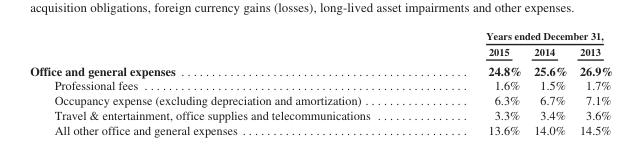table: (29, 29, 612, 136)
table column: (29, 29, 427, 136), (427, 29, 527, 136), (527, 29, 572, 136), (572, 29, 612, 136)
table column header: (29, 29, 612, 59)
table row: (29, 59, 612, 77), (29, 43, 612, 59), (29, 77, 612, 92), (29, 92, 612, 107), (29, 107, 612, 122), (29, 29, 612, 43), (29, 122, 612, 136)
table spanning cell: (427, 29, 612, 43)
